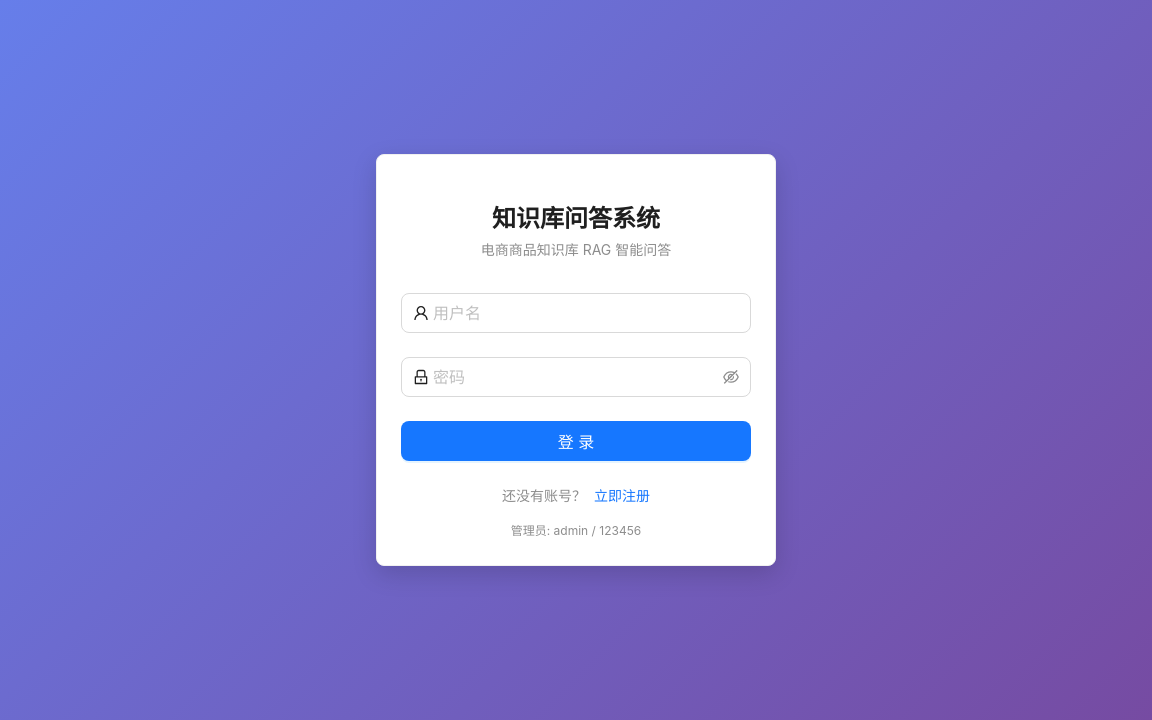
Test case: Login 登录页面 › 用户名和密码为空时应显示验证提示
Click the button "登 录": x=576, y=441 [401,421,751,461]
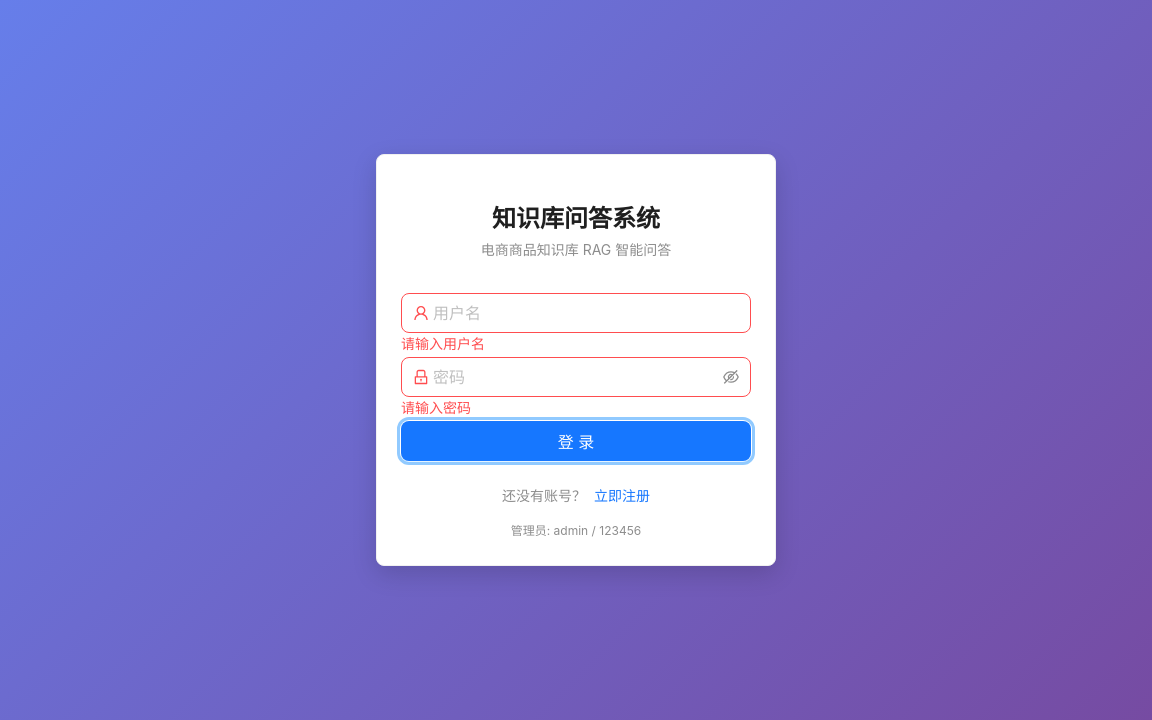
Now the text "请输入用户名" is shown, box [401,335,485,352]
